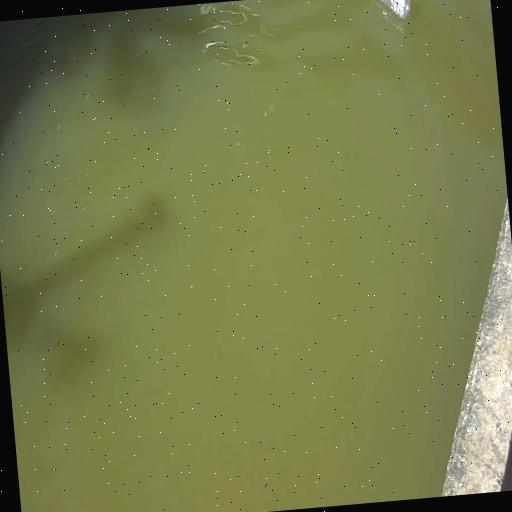plastic: (369, 0, 413, 24)
